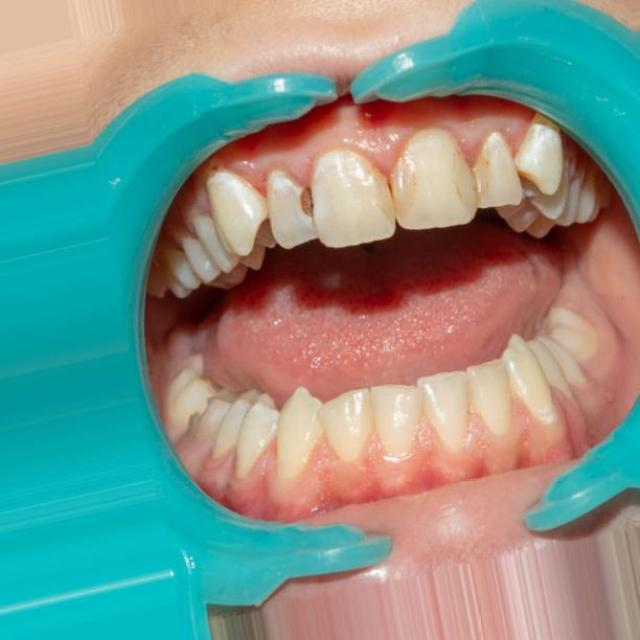caries: (361, 153, 432, 224), (443, 148, 496, 214), (278, 175, 335, 232)
